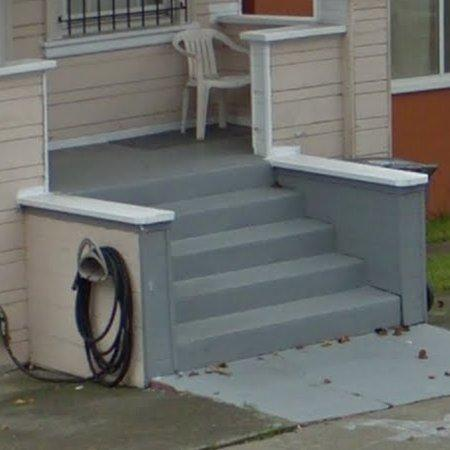stairs: (50, 134, 400, 370)
